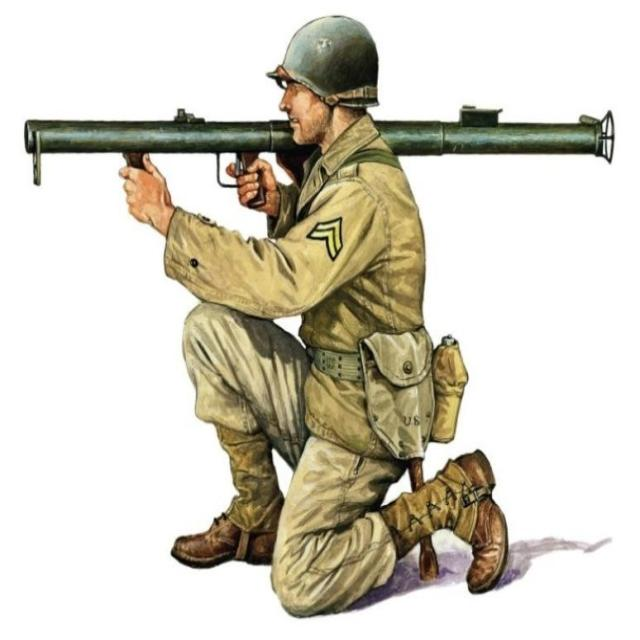Weapon: (21, 100, 624, 211)
